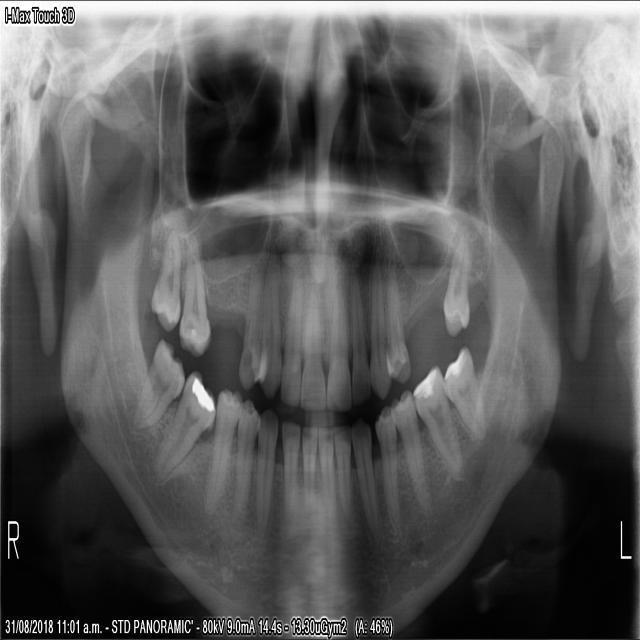LCD: (349, 414, 383, 548)
LCU: (366, 265, 394, 402)
LID: (330, 423, 353, 513), (316, 424, 337, 515)
LIU: (325, 276, 350, 417), (346, 278, 372, 410)
LMD: (408, 362, 463, 480), (440, 336, 488, 441)
LMU: (439, 225, 472, 337)
LPMD: (389, 387, 431, 518), (373, 398, 402, 541)
LPMU: (384, 262, 409, 382)
RCD: (253, 405, 278, 540)
RCU: (254, 261, 281, 403)
RID: (279, 417, 302, 524), (299, 416, 317, 526)
RIU: (298, 268, 325, 411), (277, 268, 303, 408)
RMD: (151, 368, 217, 481), (125, 331, 184, 438)
RMU: (178, 235, 214, 357), (148, 224, 182, 337)
RPMD: (203, 380, 243, 513), (230, 396, 260, 516)
RPMU: (233, 270, 268, 393)
